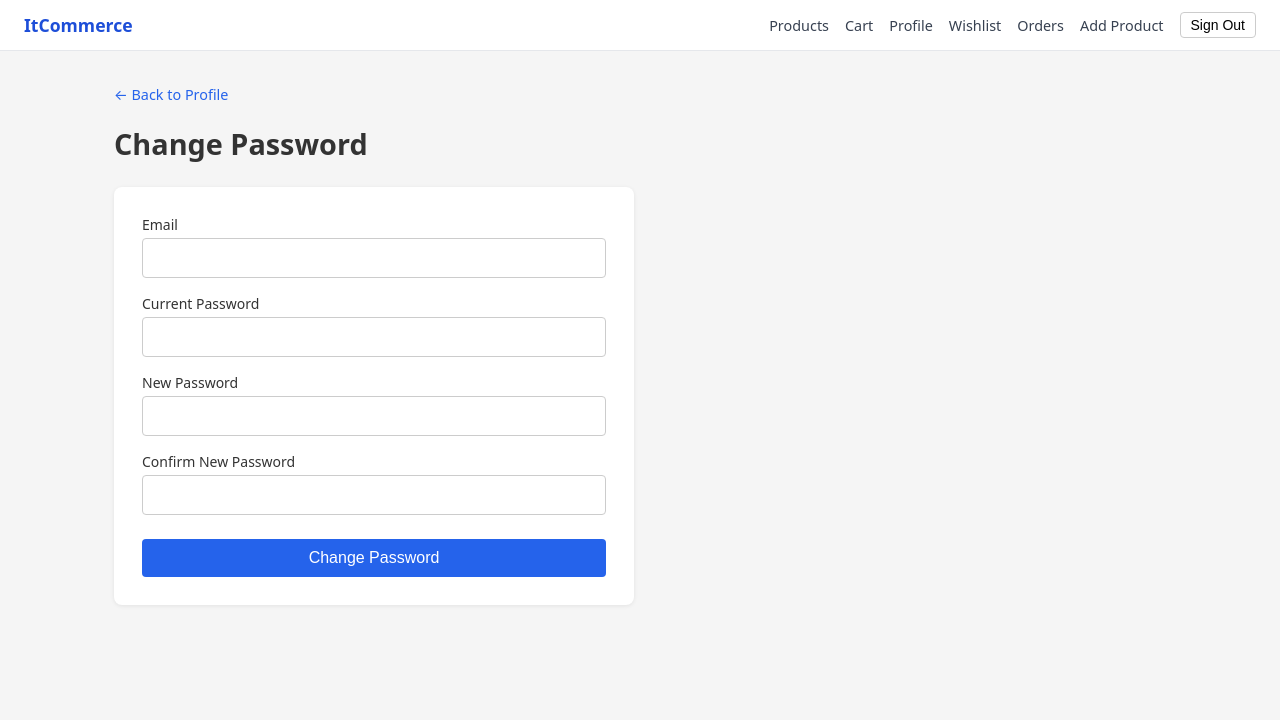
Test: ChangePassword › validation › shows error for invalid email format
This screenshot has width=1280, height=720.
Type "notanemail" into the field labelled "Email" at (374, 258), box [142, 238, 606, 278]
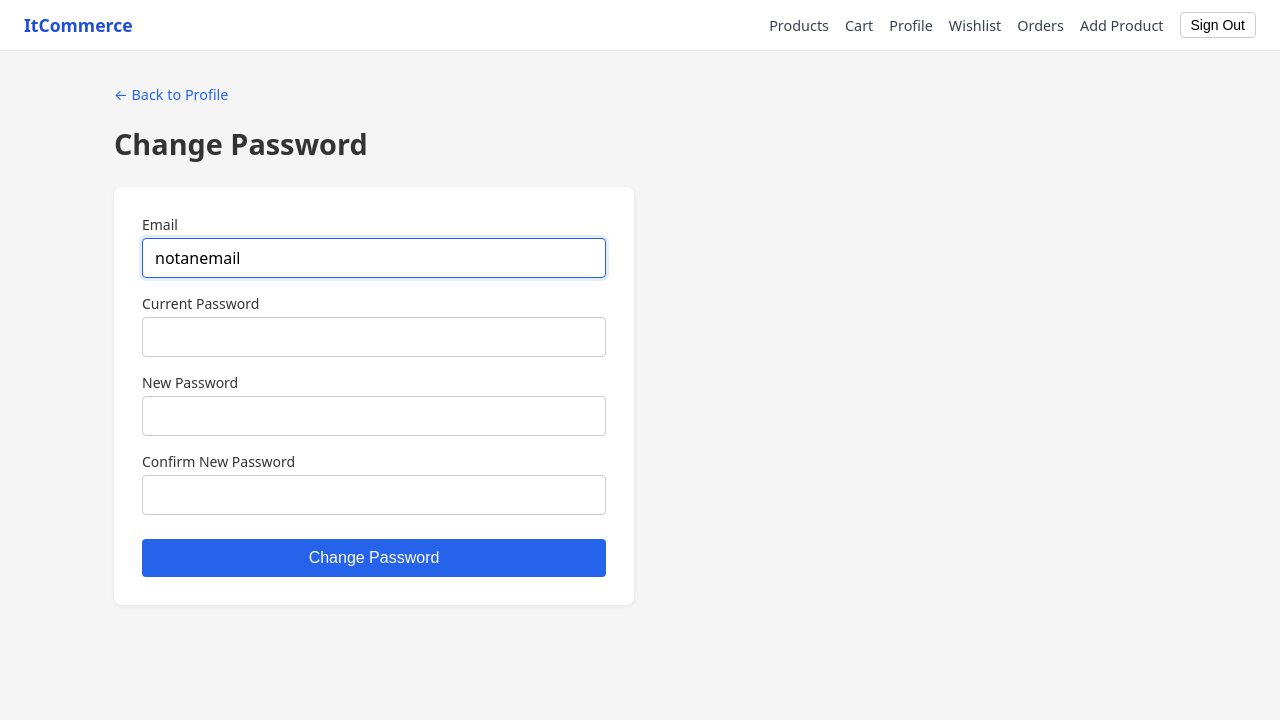
Click the button "Change Password" at (374, 558), box [142, 539, 606, 577]
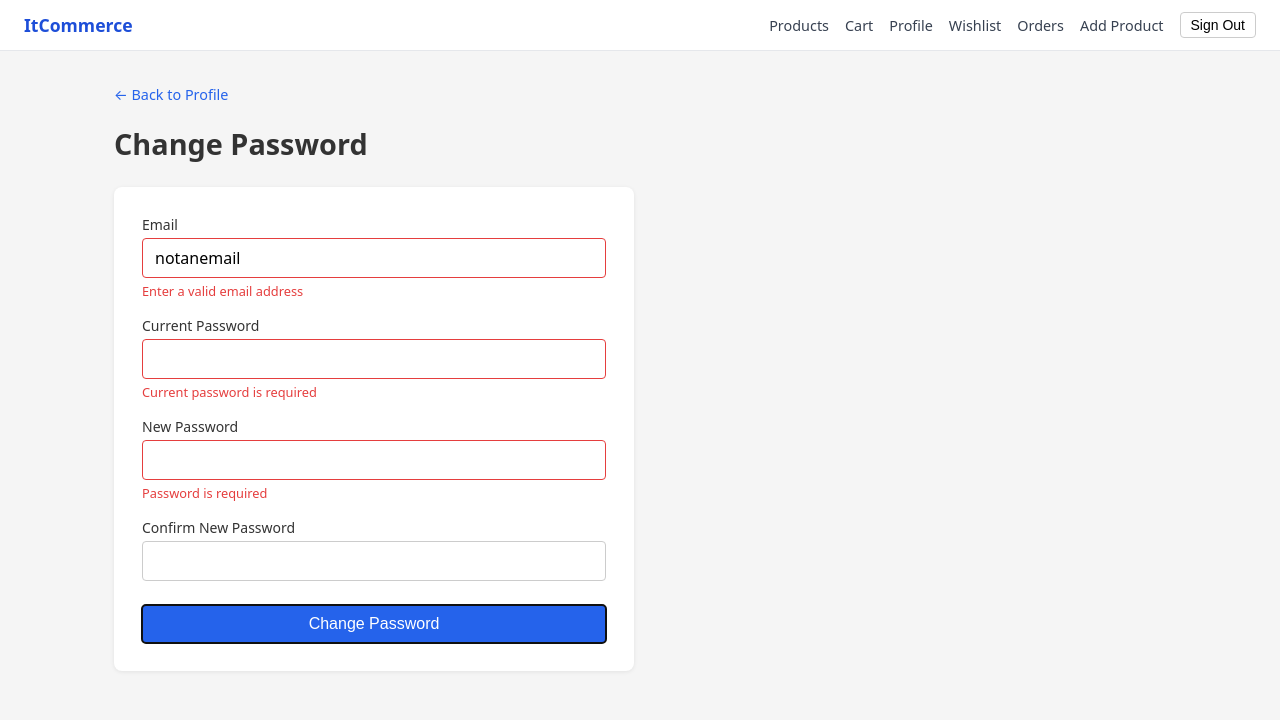
Result: the text "Enter a valid email address" is shown at [142, 282, 303, 300]
